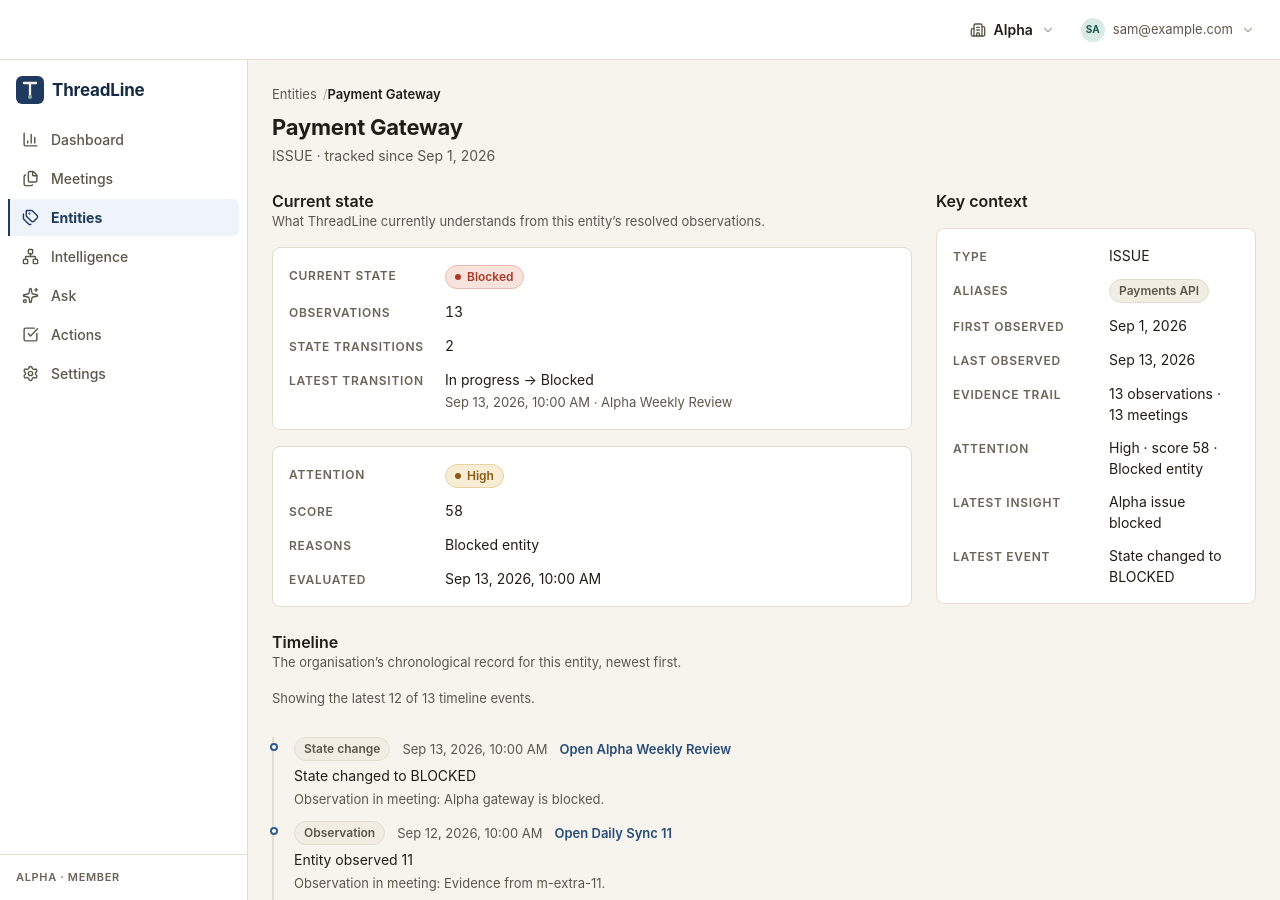
Test case: entity detail › switches the whole workspace with the organisation
Check: the text "Beta Weekly Review" is not shown
Click the button with aria-label "switch organisation" at (1012, 30), box [970, 21, 1055, 38]
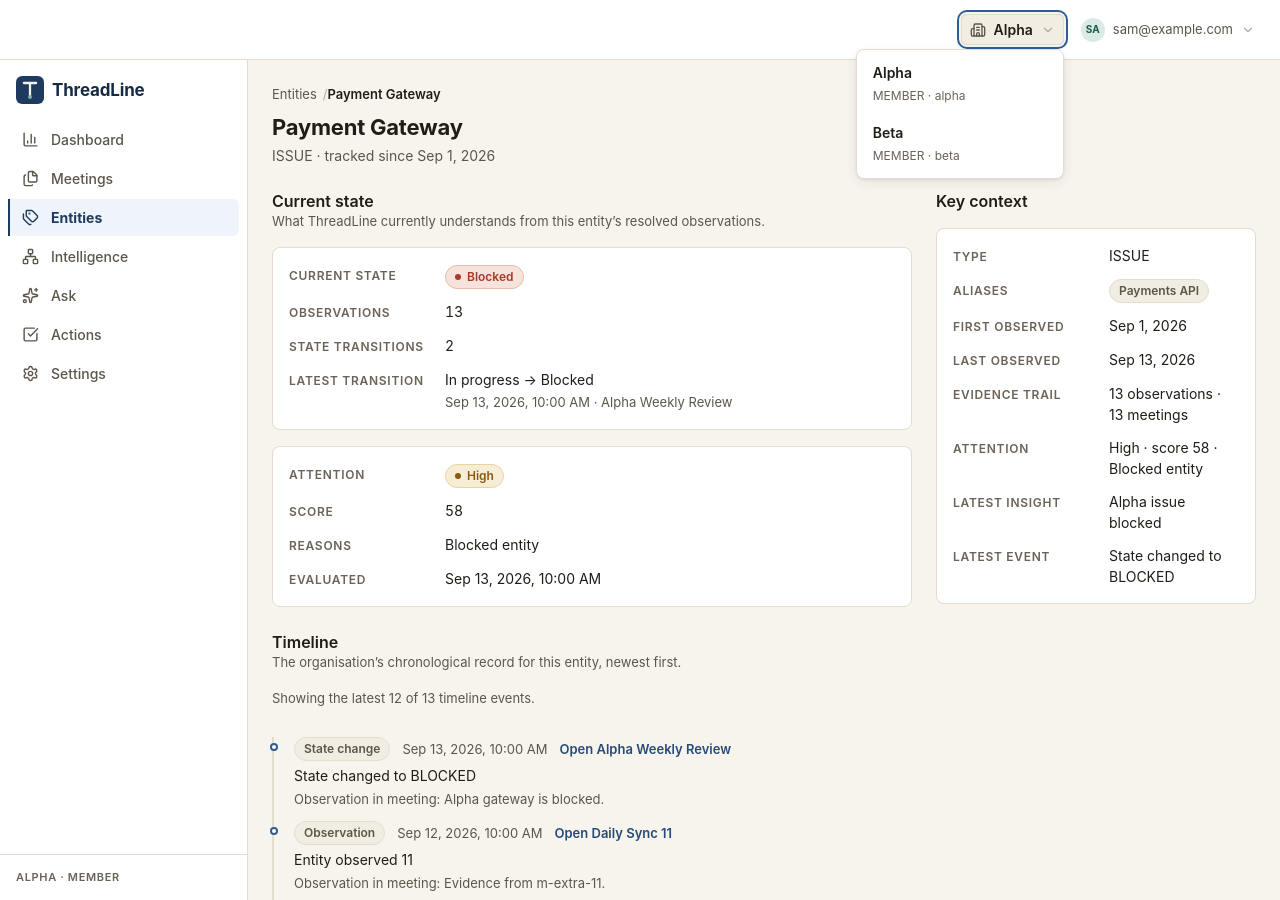
Click the menu item "Beta MEMBER · beta" at (960, 144), box [861, 114, 1059, 174]
(page scrolled)
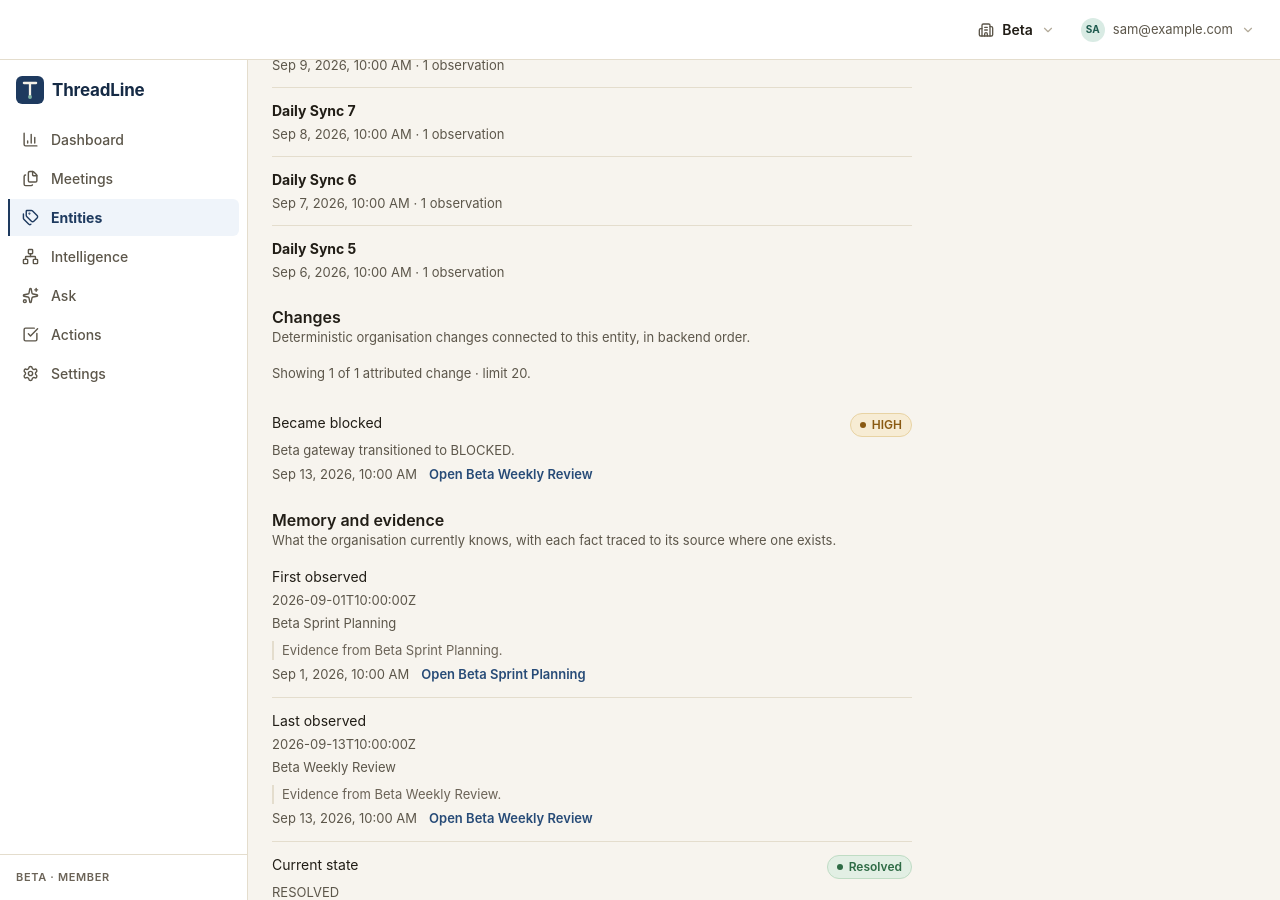
Check: the text "Alpha Weekly Review" is gone
Check: the text "Beta gateway transitioned to BLOCKED." is shown, box [272, 442, 515, 458]
